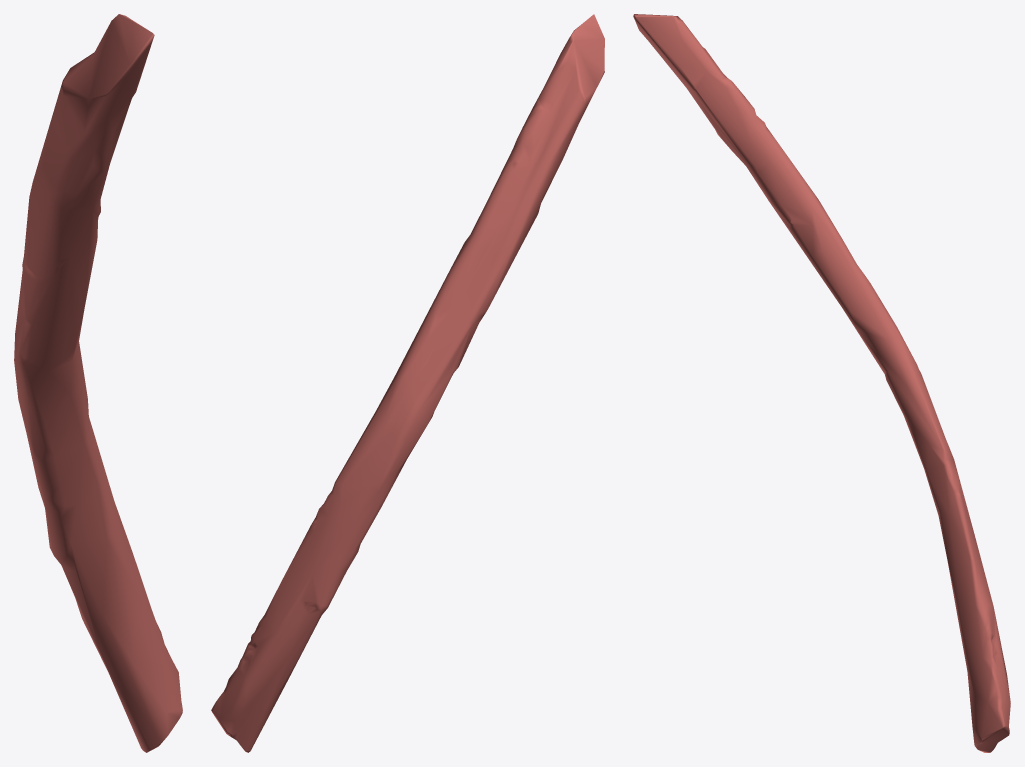
3 renders of one model, left to right at view 1: azimuth 30°, elevation 25°; view 2: azimuth 150°, elevation 25°; view 3: azimuth 270°, elevation 25°, orthographic. The views are drawn at different scales.
Parts seen in each view (by area): view 1: 右侧肛提肌腱弓; view 2: 右侧肛提肌腱弓; view 3: 右侧肛提肌腱弓.
Part boxes in pixels (x1,y1,x2,y2): 右侧肛提肌腱弓: (14, 14, 182, 752); 右侧肛提肌腱弓: (211, 14, 604, 752); 右侧肛提肌腱弓: (633, 14, 1010, 752).
Size of the model in its own units: 0.0351 by 0.0962 by 0.0502.
